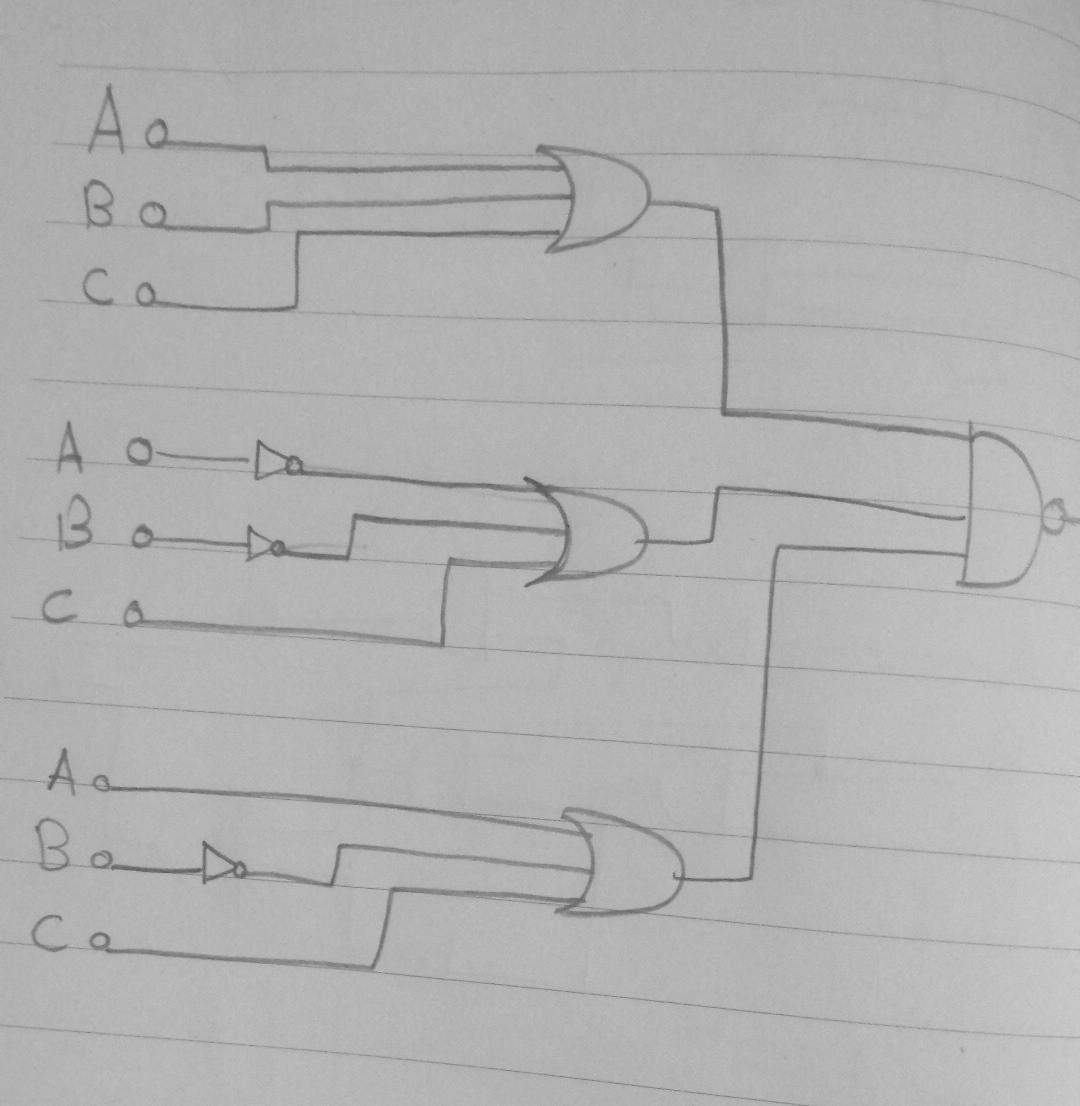NAND: (954, 398, 1076, 613)
NOT: (190, 832, 263, 909), (244, 414, 310, 498), (244, 508, 305, 581)
OR: (506, 100, 678, 284), (550, 774, 715, 939), (504, 442, 660, 614)
